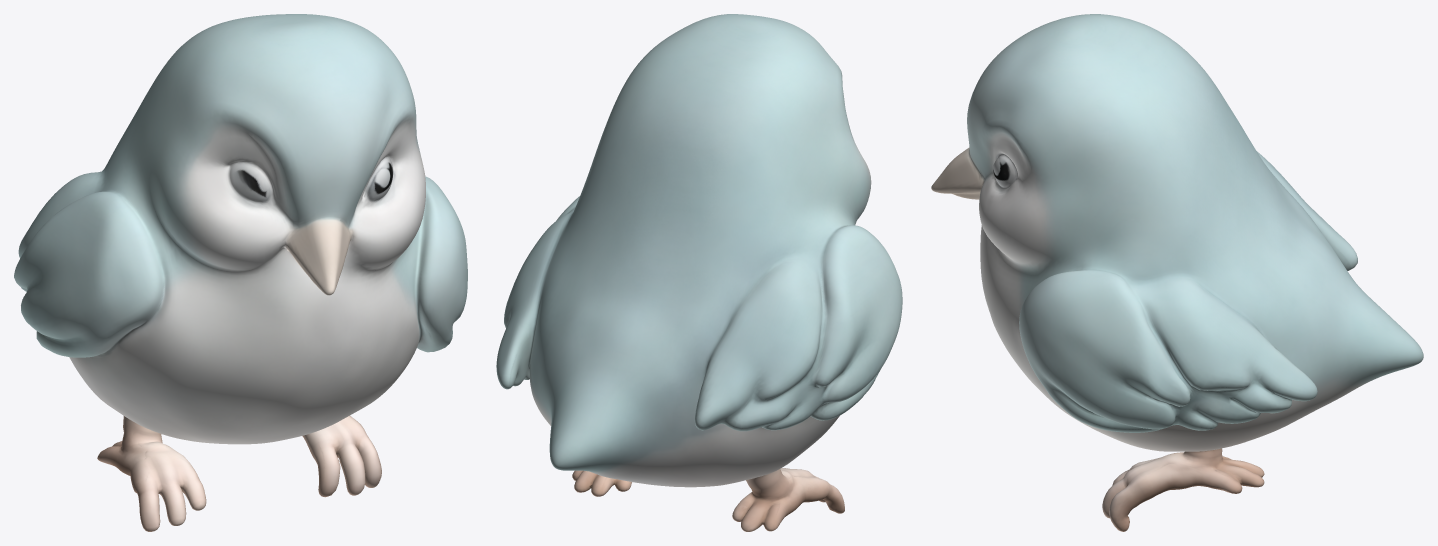
The model's file is bird-closed-grip-source.glb.
The picture shows the model from 3 angles, left to right: view 1: azimuth 30°, elevation 25°; view 2: azimuth 150°, elevation 25°; view 3: azimuth 270°, elevation 25°; orthographic projection. The views are drawn at different scales.
Parts seen in each view (by area): view 1: model; view 2: model; view 3: model.
Part boxes in pixels (bbox=[...]): model: bbox=[14, 14, 467, 531]; model: bbox=[496, 14, 902, 531]; model: bbox=[931, 14, 1423, 531].
Size of the model in its own units: 1.57 by 1.9 by 1.85.
Materials: 1 (1 with a texture image).
